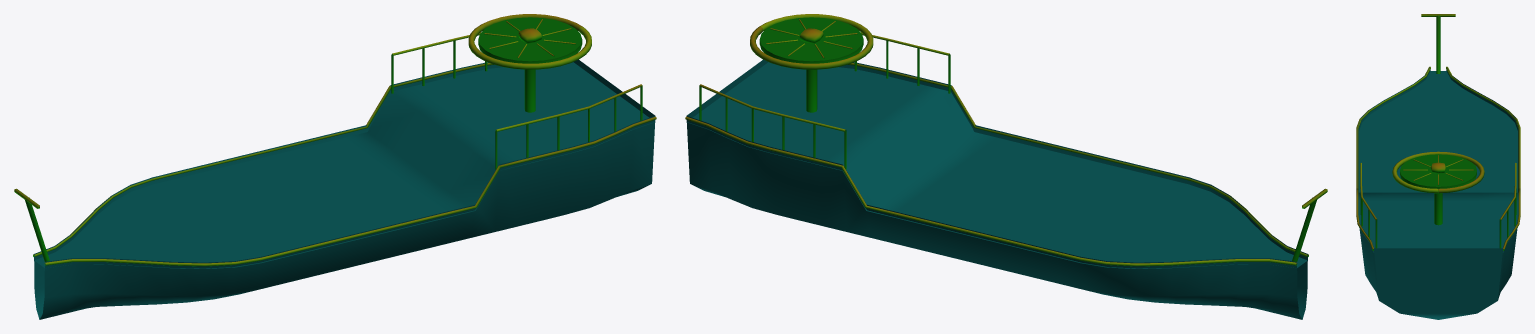
File: pursuit_barge.glb
The picture shows the model from 3 angles, left to right: view 1: azimuth 30°, elevation 25°; view 2: azimuth 150°, elevation 25°; view 3: azimuth 270°, elevation 25°; orthographic projection. The views are drawn at different scales.
Parts seen in each view (by area): view 1: pursuit_barge; view 2: pursuit_barge; view 3: pursuit_barge.
Boxes of the visible parts, box(x1,y1,x2,y2) form: pursuit_barge: box(14, 14, 656, 319); pursuit_barge: box(685, 14, 1327, 319); pursuit_barge: box(1356, 14, 1520, 319).
Size of what is drawn, in the model's own units: 14.36 by 3.96 by 4.68.
